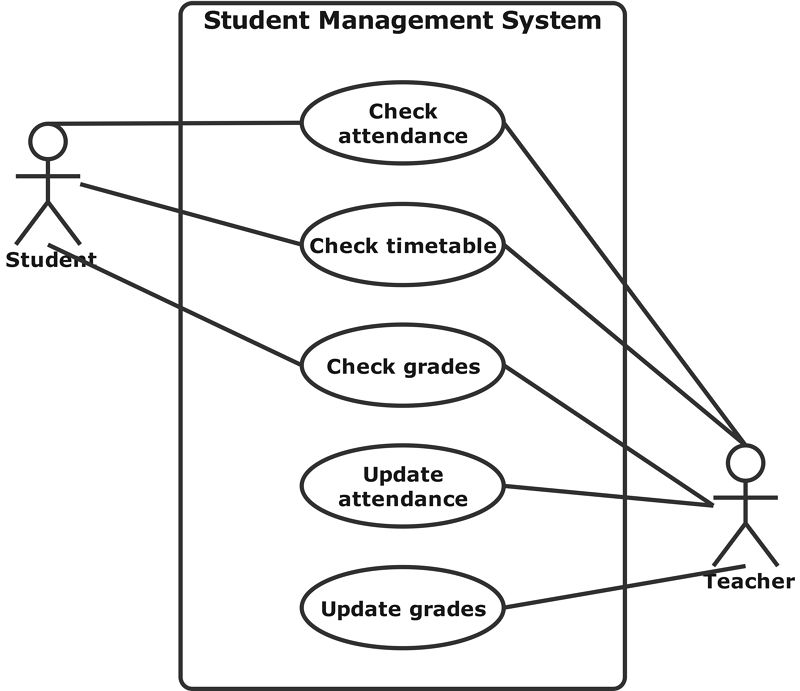actor: (14, 120, 85, 248), (711, 442, 782, 568)
association: (506, 123, 743, 436), (504, 243, 731, 432), (47, 242, 297, 365), (507, 368, 709, 502), (80, 178, 301, 246), (505, 562, 744, 613), (506, 481, 707, 507), (60, 116, 300, 132)
text: (198, 8, 609, 40), (335, 97, 469, 149), (335, 461, 474, 511), (323, 352, 488, 379), (308, 235, 498, 258), (319, 596, 487, 622), (703, 569, 796, 595), (3, 250, 97, 273)
use_case: (298, 77, 505, 169), (297, 562, 506, 653), (297, 320, 507, 410), (297, 200, 508, 289), (298, 441, 506, 529)
